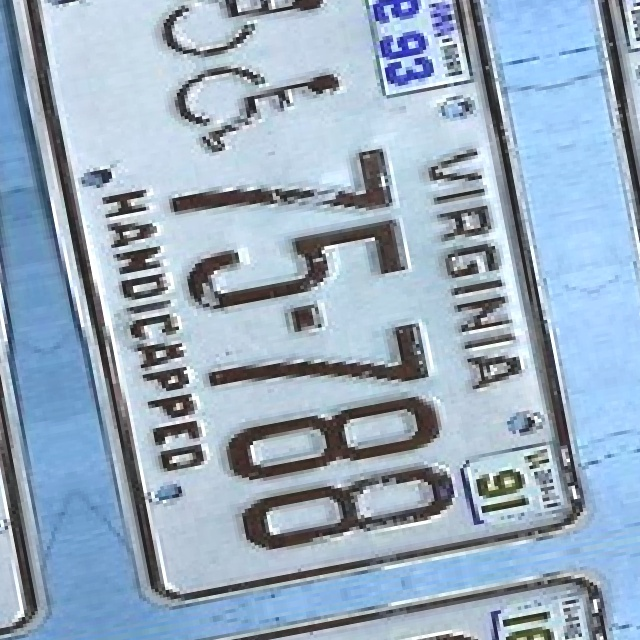ISA: (167, 44, 353, 157), (150, 0, 336, 64)
